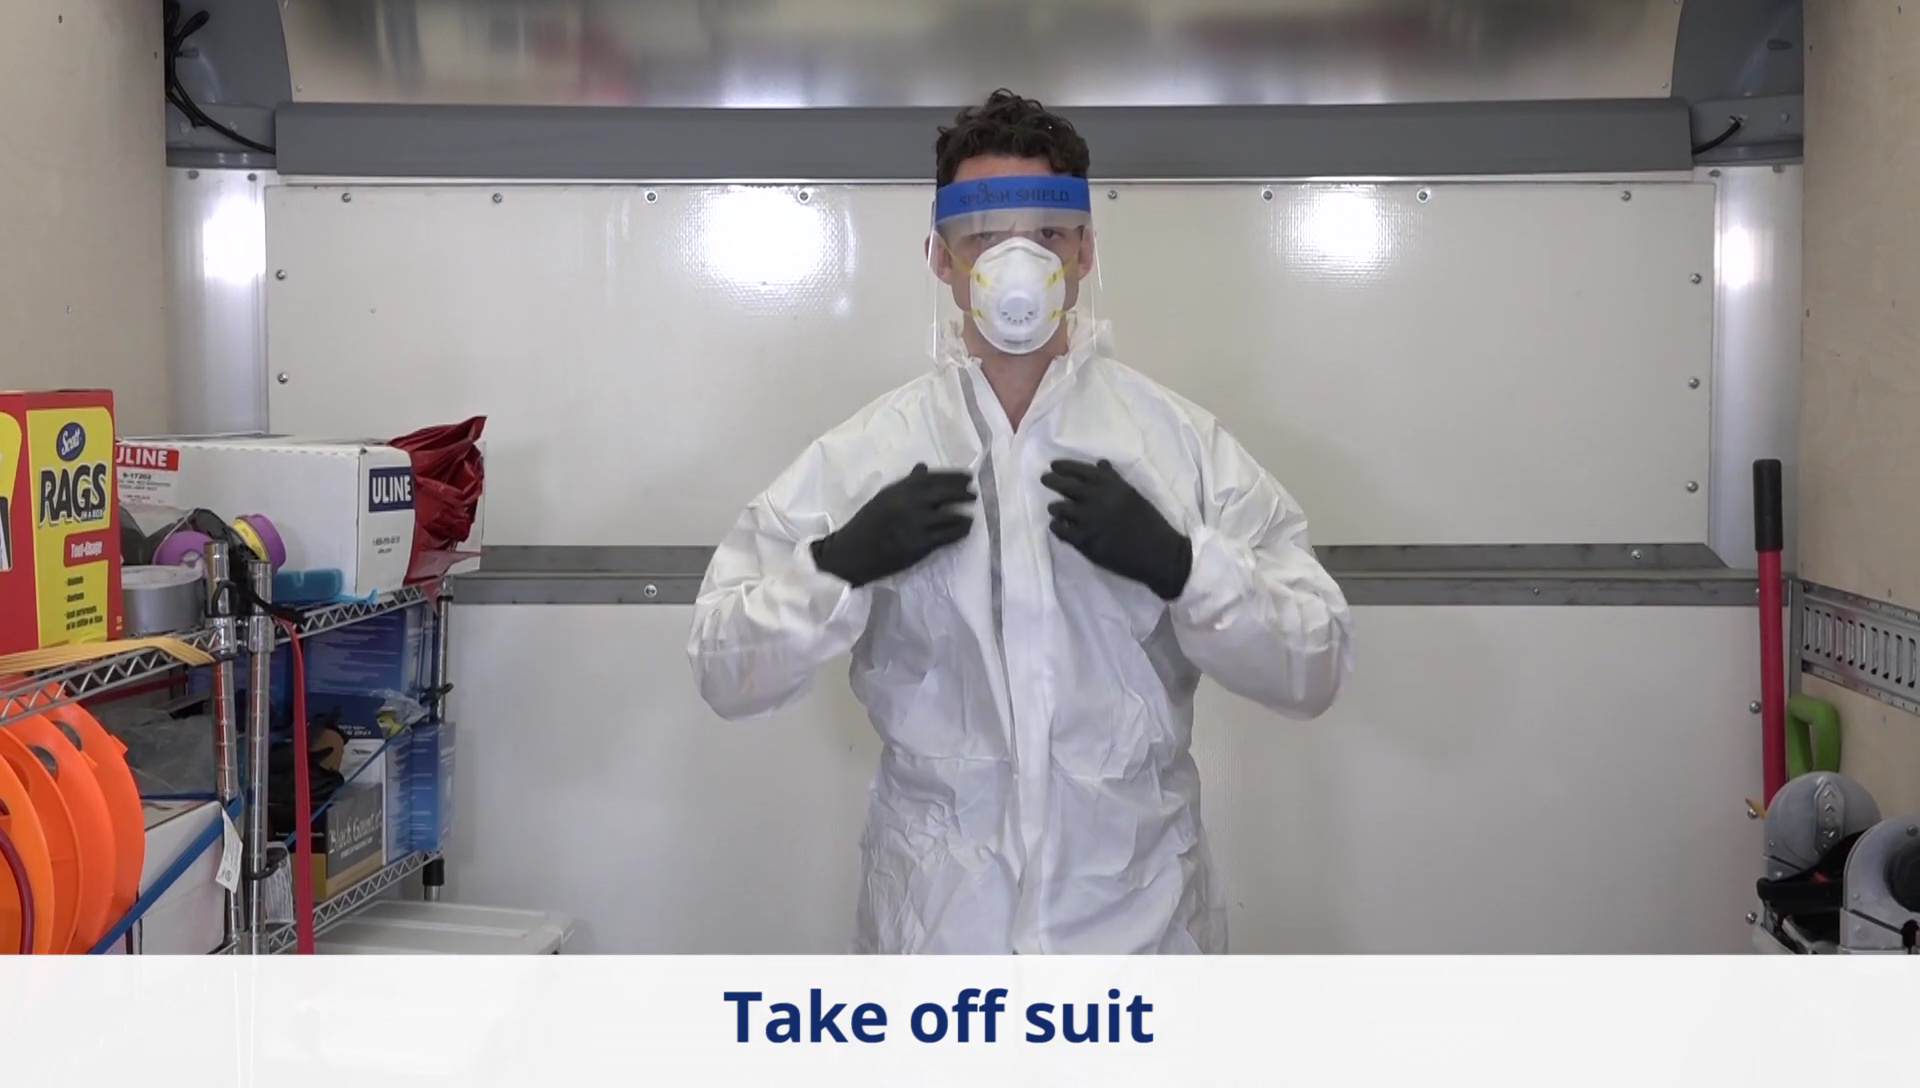Coverall: (688, 355, 1351, 950)
Face_Shield: (923, 171, 1111, 380)
Gloves: (1041, 451, 1194, 608), (810, 460, 980, 587)
with_mask: (958, 214, 1072, 358)
